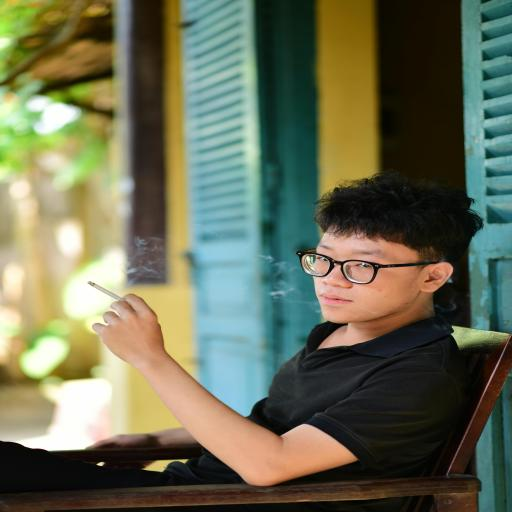terdeteksi pegang rokok: (68, 262, 168, 357)
